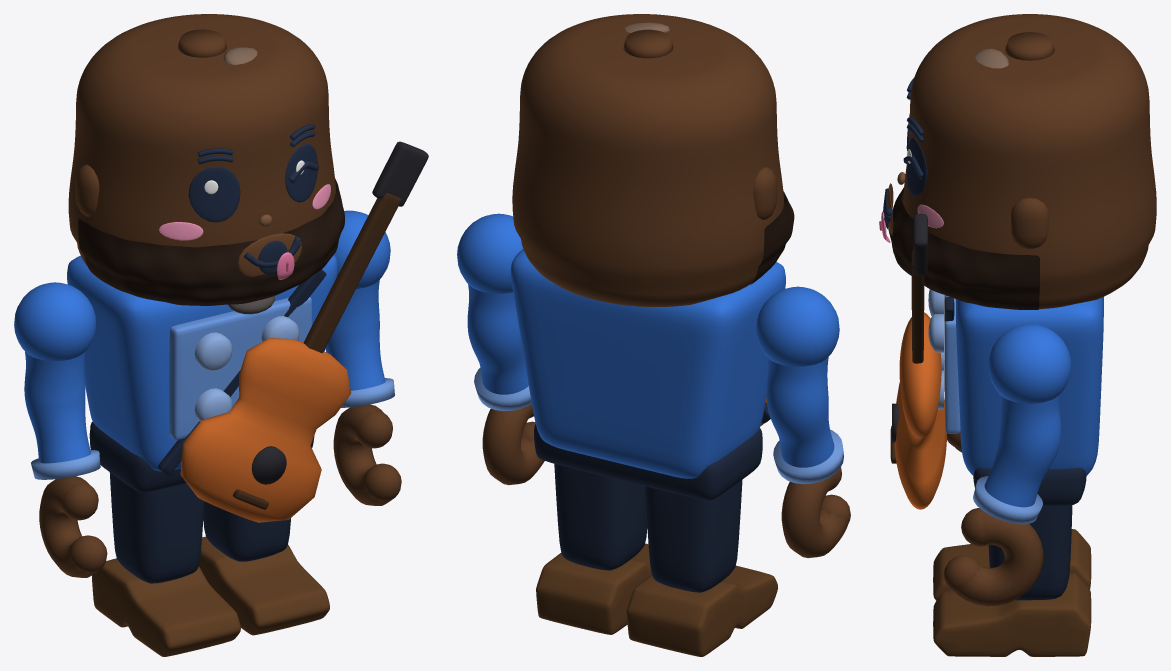
Rendered from dad.glb.
3 views of the same model, side by side, from view 1: azimuth 30°, elevation 25°; view 2: azimuth 150°, elevation 25°; view 3: azimuth 270°, elevation 25° (orthographic).
Parts seen in each view (by area): view 1: Body, HeadMesh, ArmMeshL, ArmMeshR, Ink_surprised_1D2A44, Ink_happy_6B4226, Ink_happy_FF9EC4, Ink_silly_1D2A44; view 2: Body, HeadMesh, ArmMeshL, ArmMeshR; view 3: HeadMesh, Body, ArmMeshR, Ink_surprised_1D2A44.
Boxes of the visible parts, bbox=[...] form: Body: bbox=[67, 141, 428, 656]; HeadMesh: bbox=[68, 14, 344, 314]; ArmMeshL: bbox=[14, 282, 107, 577]; ArmMeshR: bbox=[325, 210, 401, 505]; Ink_surprised_1D2A44: bbox=[188, 124, 317, 274]; Ink_happy_6B4226: bbox=[237, 233, 302, 277]; Ink_happy_FF9EC4: bbox=[159, 184, 330, 240]; Ink_silly_1D2A44: bbox=[197, 132, 318, 267]; Body: bbox=[510, 249, 785, 656]; HeadMesh: bbox=[512, 14, 794, 306]; ArmMeshL: bbox=[756, 286, 850, 558]; ArmMeshR: bbox=[457, 213, 544, 485]; HeadMesh: bbox=[888, 14, 1156, 309]; Body: bbox=[890, 213, 1103, 656]; ArmMeshR: bbox=[943, 324, 1071, 606]; Ink_surprised_1D2A44: bbox=[884, 78, 927, 228].
Size of the model in its own units: 1.64 by 2.45 by 1.07.
